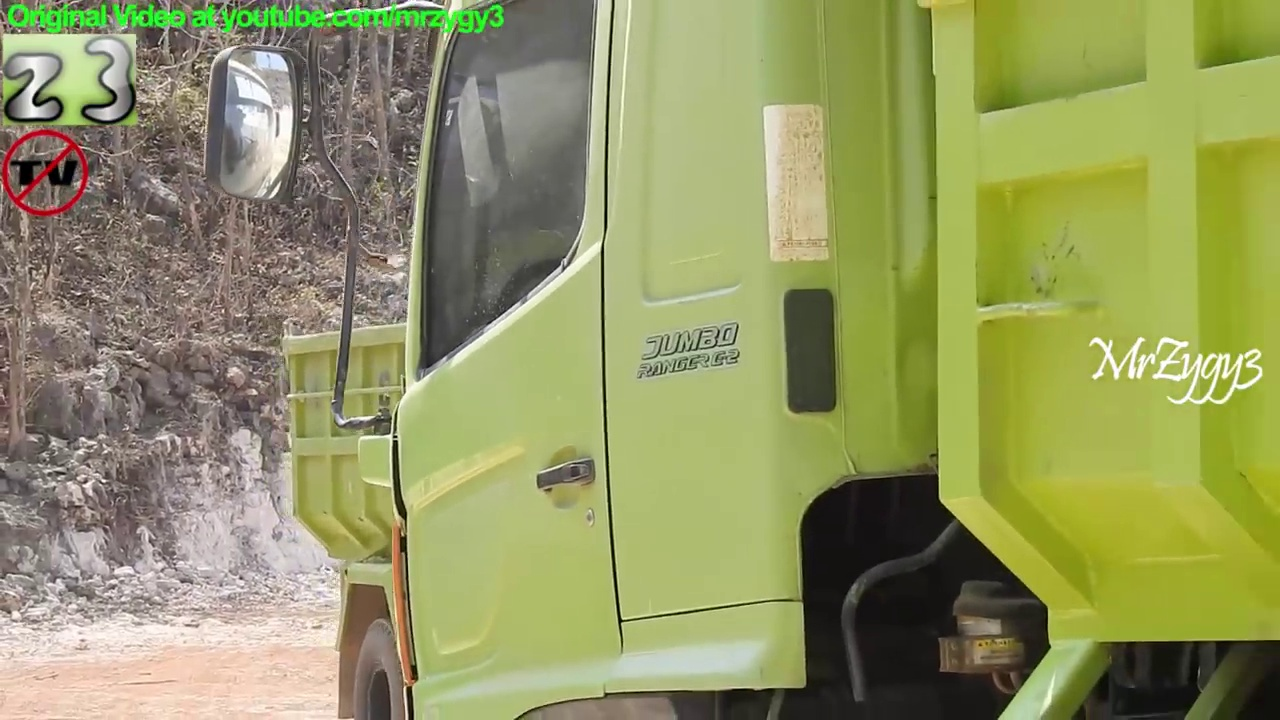truck: (193, 1, 1280, 720), (272, 209, 1280, 720)
